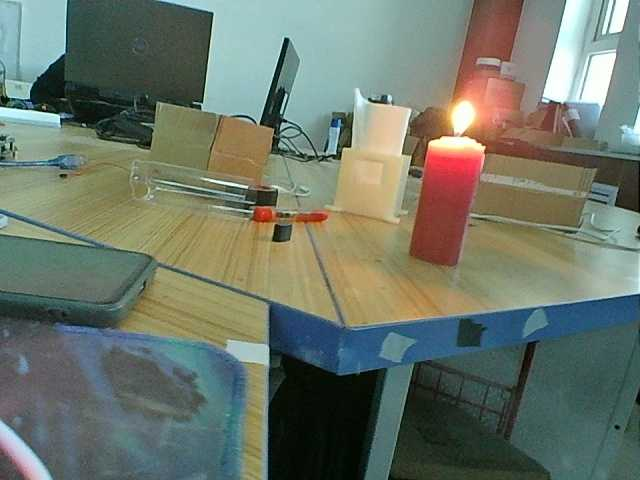candle: (401, 135, 487, 270)
fire: (427, 93, 492, 156)
